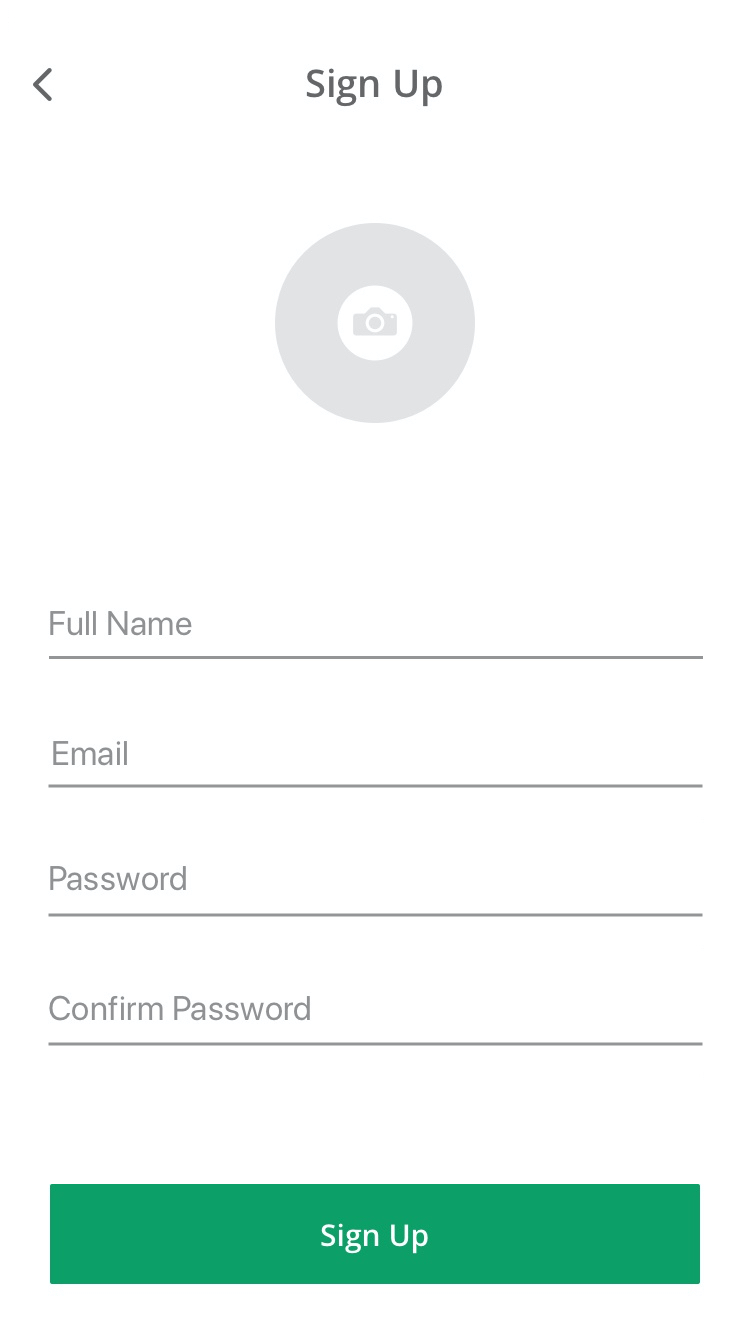EditText: (48, 865, 703, 918), (48, 995, 703, 1047), (49, 611, 704, 660), (49, 741, 704, 789)
Icon: (33, 68, 54, 103)
Image: (275, 223, 476, 424)
Text: (307, 68, 443, 108)
TextButton: (50, 1184, 701, 1284)
